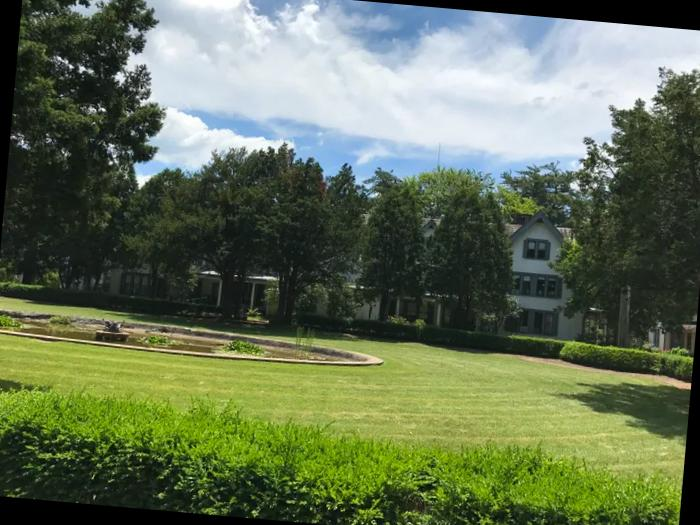overgrown grass: (212, 338, 266, 355), (139, 329, 178, 346), (296, 327, 314, 356), (0, 311, 23, 327), (47, 317, 82, 325)
